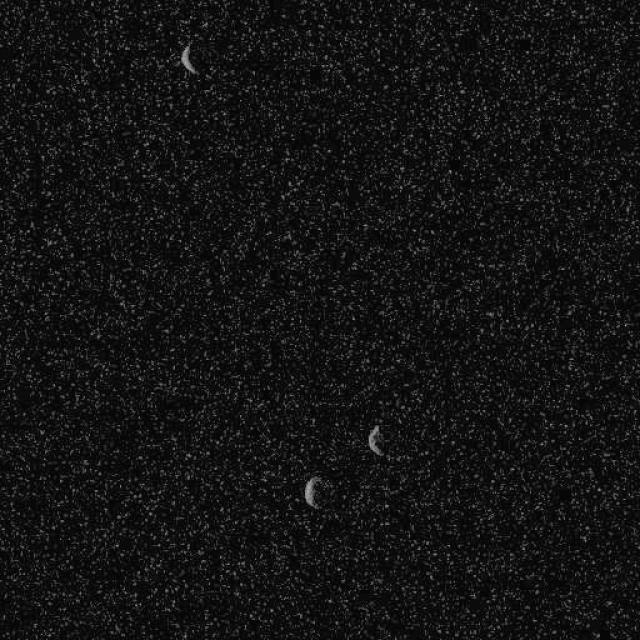D2: (302, 475, 326, 509), (178, 43, 198, 75), (366, 424, 385, 456)
